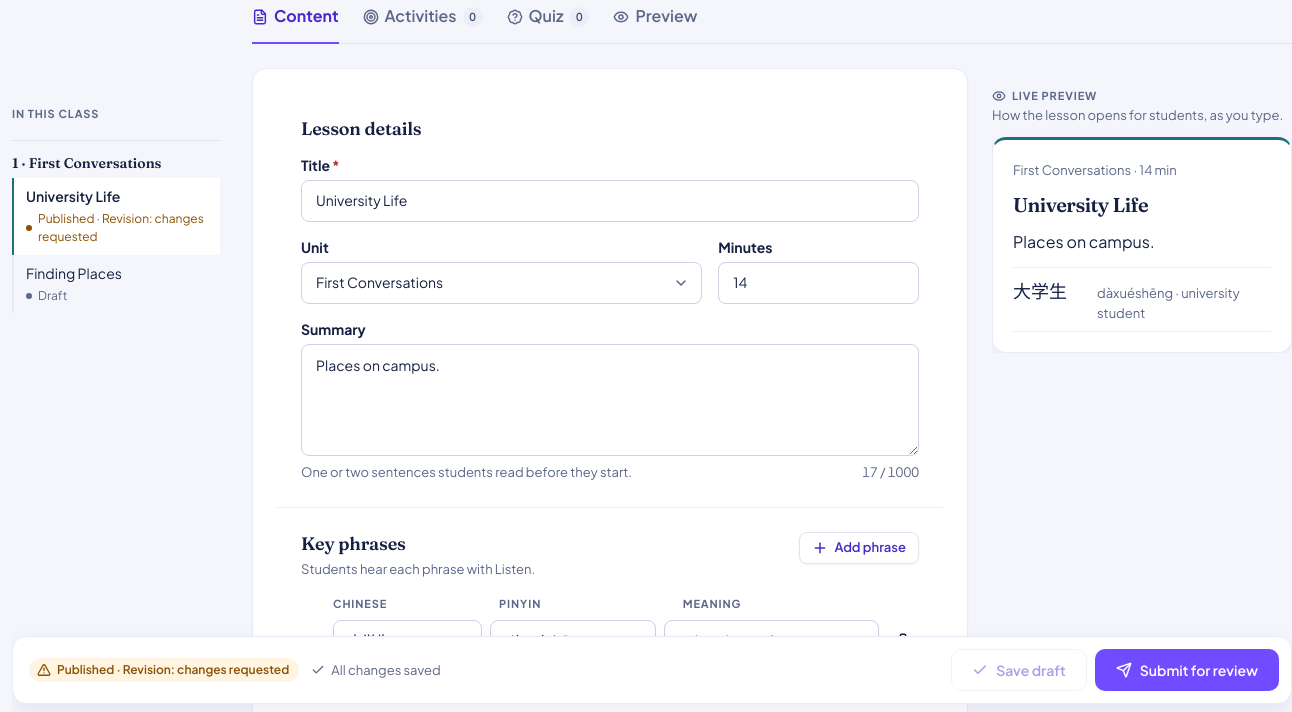
Test: TeacherLessonEditorPage › previews the edits as they are typed
(page scrolled)
Replace the text in the text box with id "lesson-summary" with "Places and routines on campus." at coordinates (610, 400), box [301,344,919,456]
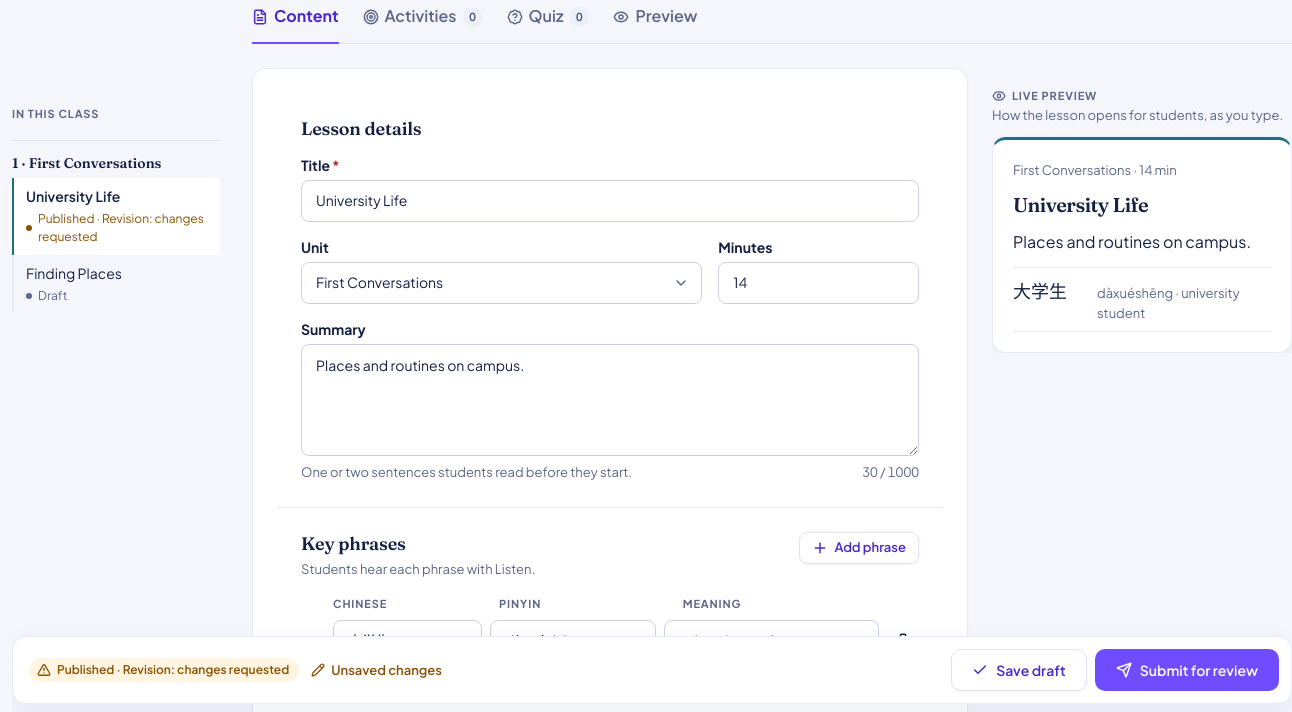
Result: the element with class "lesson-editor-live" shows "Places and routines on campus." at [1013,231,1251,252]
